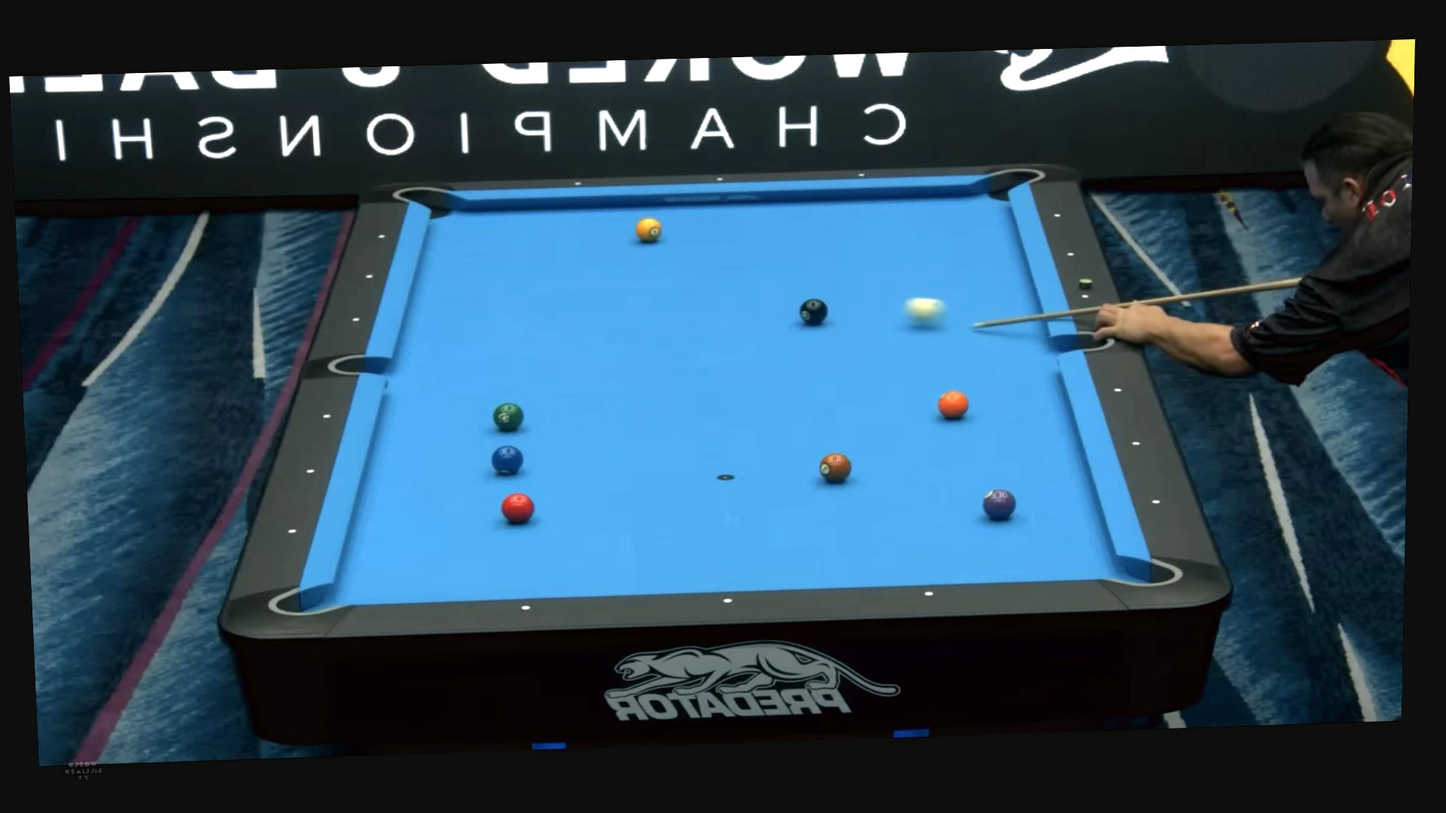Black: (923, 587, 937, 599), (519, 602, 533, 614), (720, 595, 733, 607), (286, 526, 298, 538), (303, 466, 316, 477), (320, 411, 332, 422), (1152, 497, 1161, 506), (1131, 439, 1140, 448), (1114, 386, 1123, 394), (1067, 251, 1075, 259), (1053, 212, 1061, 220), (377, 233, 386, 240), (352, 316, 360, 323), (366, 273, 374, 280), (1081, 293, 1089, 300), (715, 175, 723, 182), (858, 171, 865, 178), (574, 181, 582, 187)
Cue: (982, 488, 1017, 520), (819, 452, 853, 484), (501, 492, 535, 523), (491, 444, 525, 475), (492, 402, 525, 431), (937, 390, 970, 419), (635, 217, 662, 243)
Solid: (799, 298, 829, 324)
Stripe: (906, 296, 944, 326)
